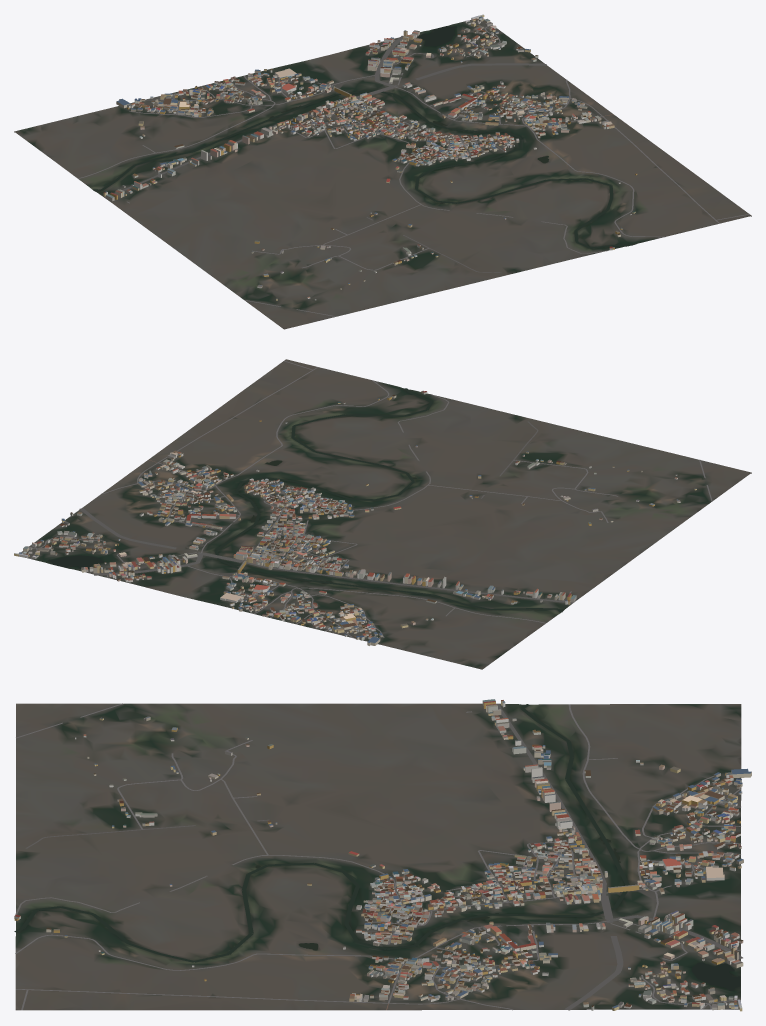
The picture shows the model from 3 angles, top to bottom: view 1: azimuth 30°, elevation 25°; view 2: azimuth 150°, elevation 25°; view 3: azimuth 270°, elevation 25°; orthographic projection. The views are drawn at different scales.
Parts seen in each view (by area): view 1: ground, buildings, roads, water; view 2: ground, buildings, roads, water; view 3: ground, buildings, roads, water.
Part boxes in pixels (x1,y1,x2,y2): ground: [14, 18, 751, 329]; buildings: [103, 14, 637, 300]; roads: [78, 22, 749, 316]; water: [93, 26, 632, 248]; ground: [22, 359, 751, 669]; buildings: [14, 390, 696, 645]; roads: [30, 360, 712, 638]; water: [48, 388, 562, 612]; ground: [15, 703, 741, 1010]; buildings: [14, 699, 751, 1011]; roads: [15, 703, 742, 1010]; water: [14, 704, 740, 990].
Bounding box in the file's own units: 1410 × 27.83 × 1427.
